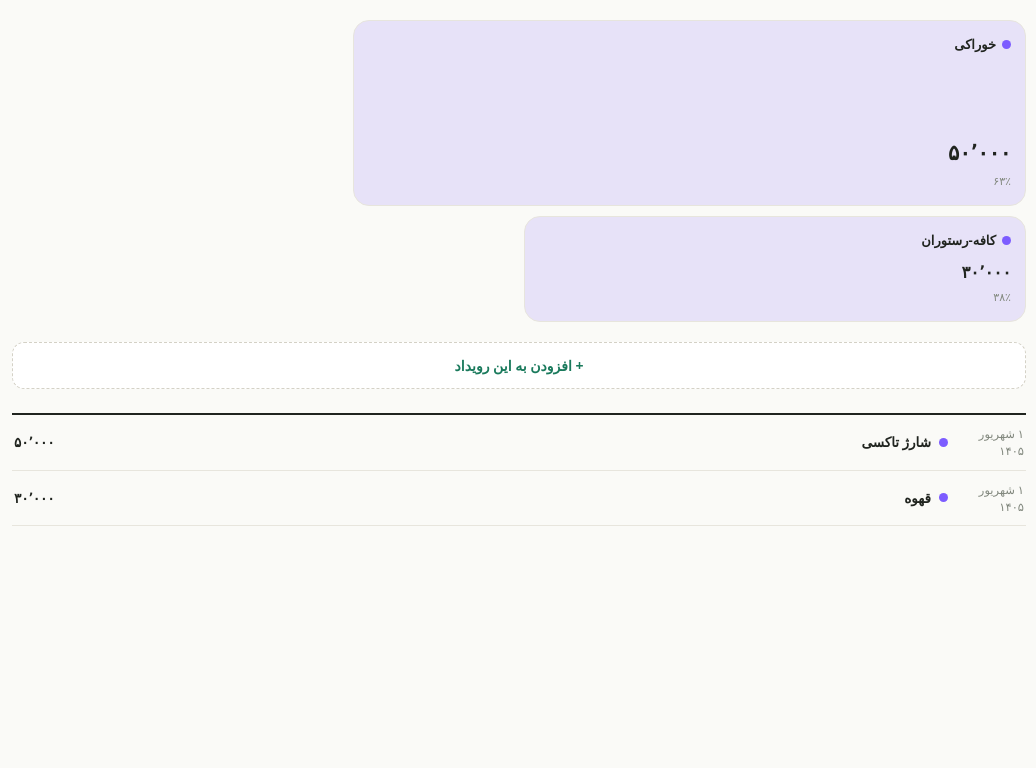
Test case: EventDetailPanel › filters the rows to a category when its tile is tapped
Expected: the text "شارژ تاکسی" is shown, [861,432,931,453]
Expected: the text "قهوه" is shown, [904,488,931,508]
Click the button with aria-label "نمایش خرج‌های خوراکی" at [975, 44], box [353,20,1026,206]
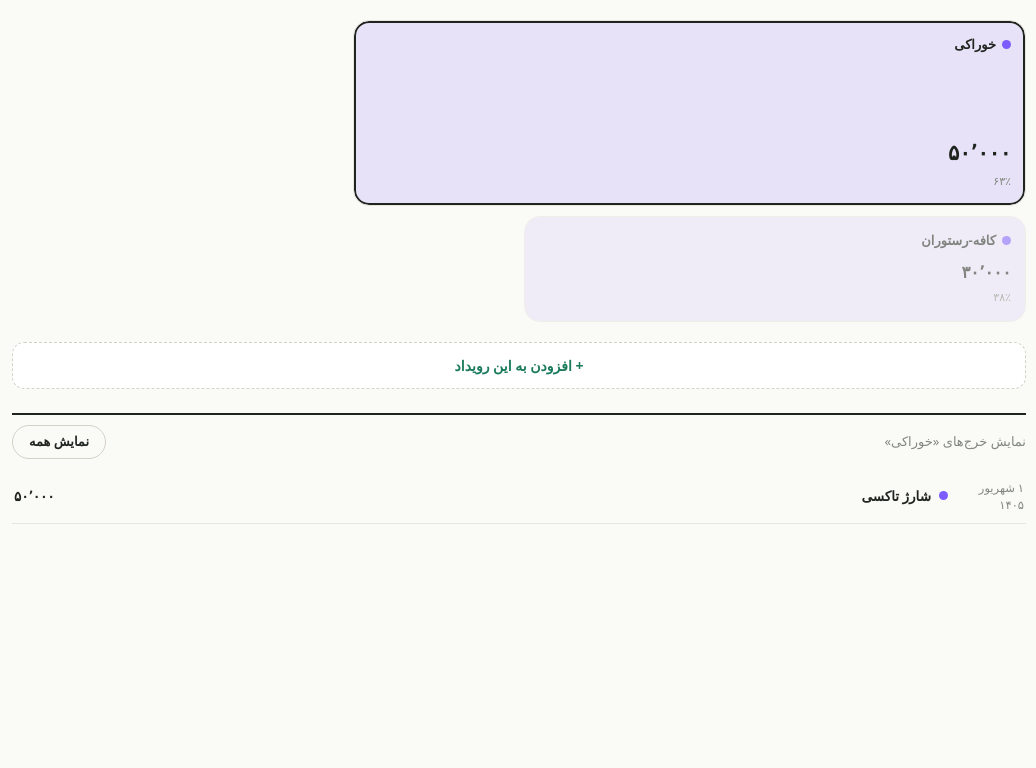
Expected: the text "شارژ تاکسی" is shown, [861,486,931,506]
Now the button "قهوه" is gone
Now the button "نمایش همه" is shown
Click the button "نمایش همه" at [59, 442], box [12,425,106,459]
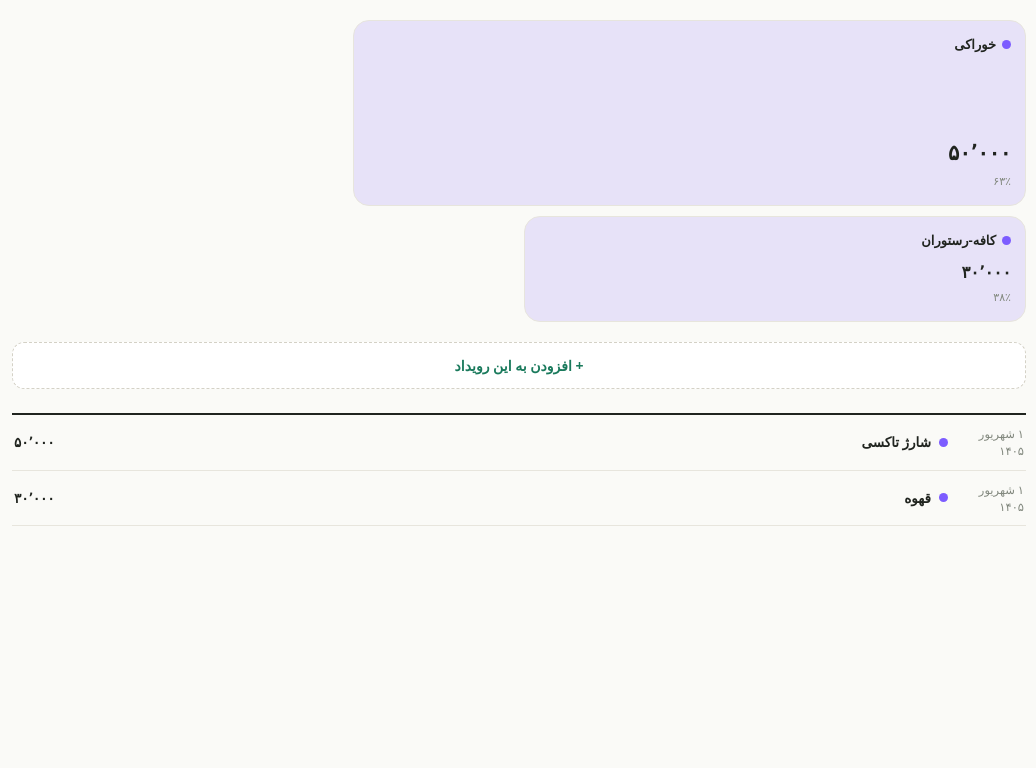
Now the text "قهوه" is shown, box [904,488,931,508]
